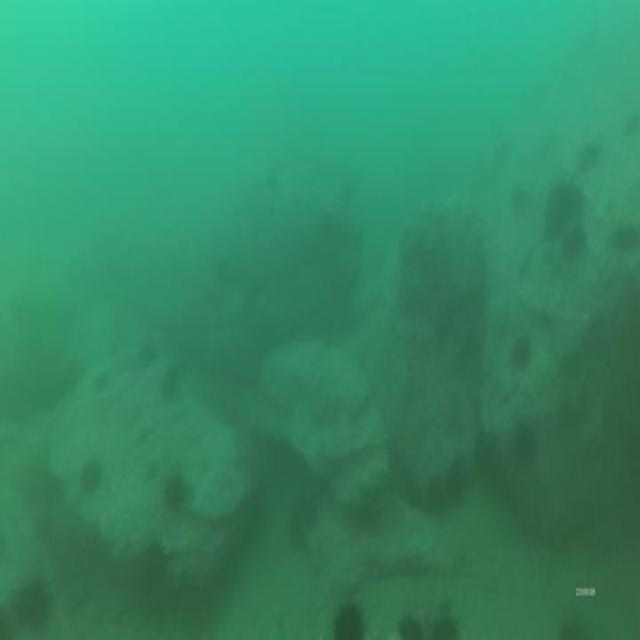echinus: (541, 182, 583, 228), (19, 580, 46, 629), (336, 602, 364, 640), (511, 332, 531, 368), (565, 224, 587, 256), (516, 422, 536, 457), (163, 476, 185, 507), (434, 614, 457, 640), (162, 362, 180, 390), (81, 463, 99, 491), (402, 618, 424, 640), (138, 340, 156, 365), (581, 139, 594, 166), (512, 188, 528, 209)
